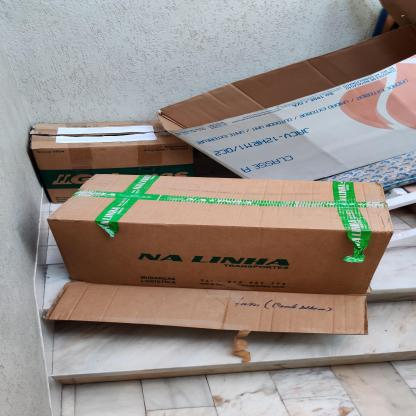karton: (45, 172, 393, 338), (157, 25, 416, 199), (30, 122, 205, 206)
